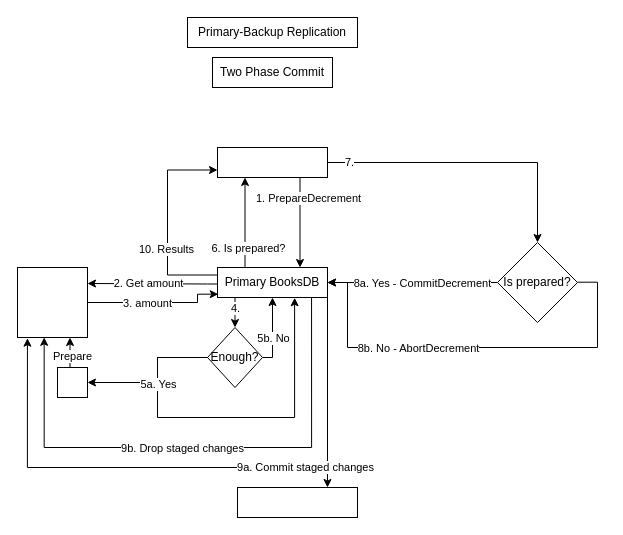
Image size: 623x535. Some labels were removed from this diagram. The centre of each missing label's shape, as x and y in pixels:
"BooksDB backups" goes at (x=297, y=502).
"OrderExecutor" goes at (x=272, y=162).
"Store" goes at (x=52, y=302).
